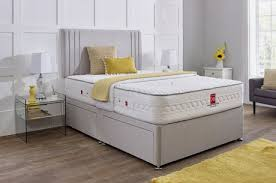bed-matress: (65, 70, 245, 125)
